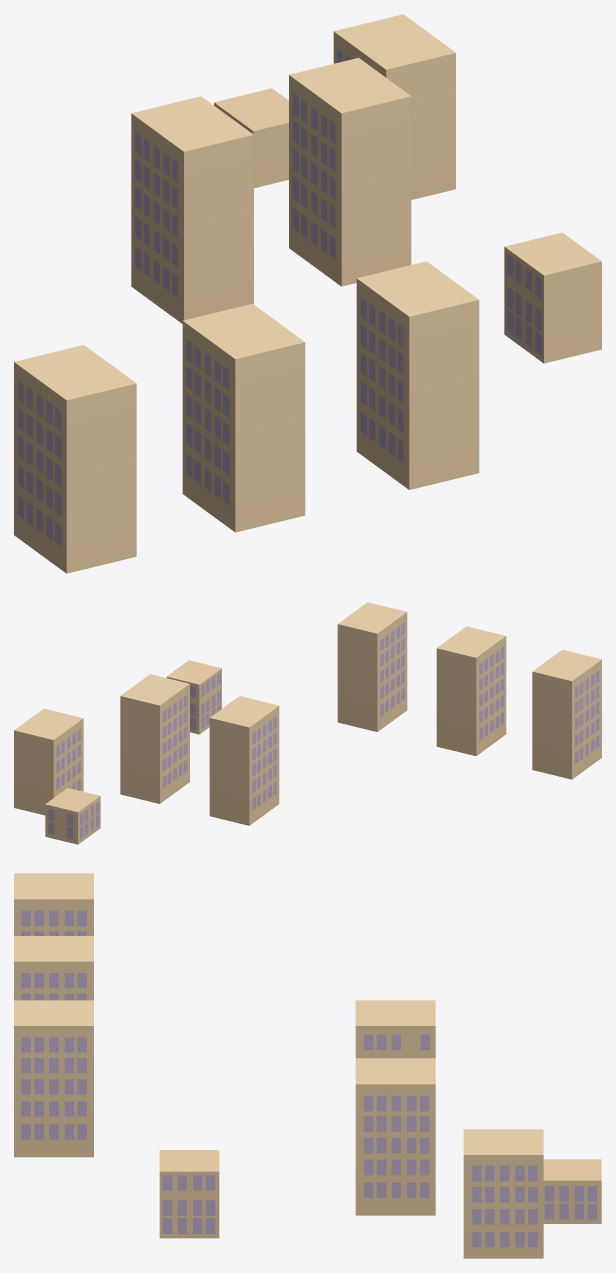
Rendered from GroupBuild.FBX.
3 renders of one model, top to bottom at view 1: azimuth 30°, elevation 25°; view 2: azimuth 150°, elevation 25°; view 3: azimuth 270°, elevation 25°, orthographic. The views are drawn at different scales.
Parts seen in each view (by area): view 1: GroupBuild; view 2: GroupBuild; view 3: GroupBuild.
Part boxes in pixels (box(x1,y1,x2,y2)): GroupBuild: box(14, 14, 601, 573); GroupBuild: box(14, 602, 601, 844); GroupBuild: box(14, 873, 601, 1258).
Bounding box in the file's own units: 3059 × 737 × 2990.
1 material, 1 textured.
